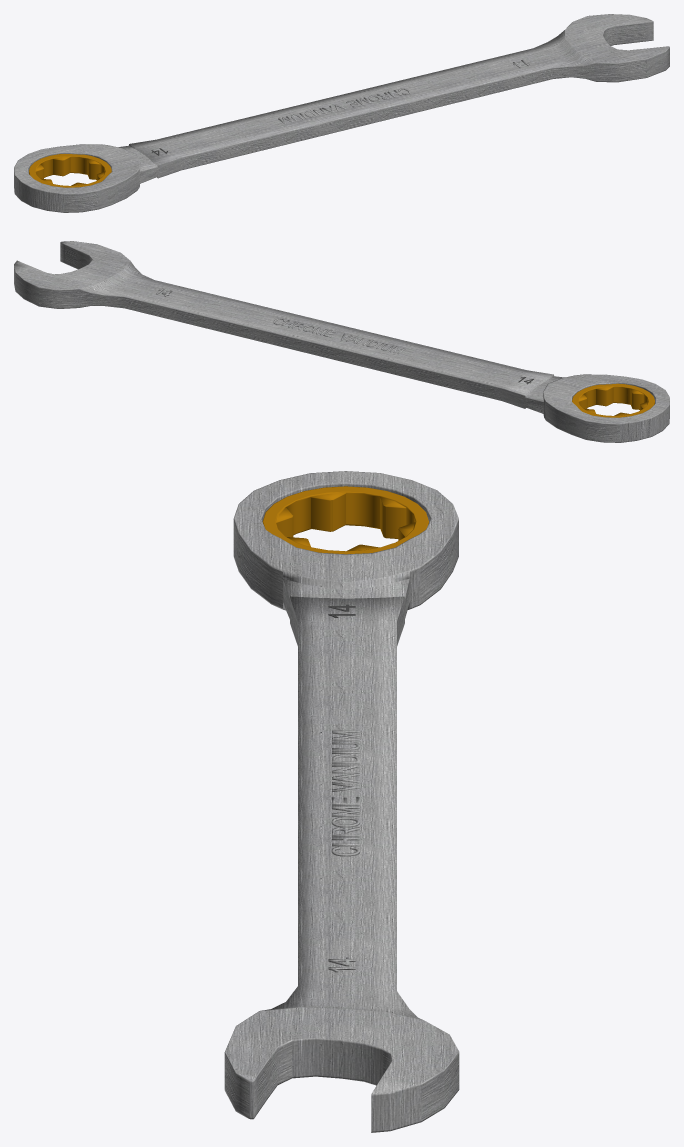
File: klu4.FBX
3 views of the same model, one above another, from view 1: azimuth 30°, elevation 25°; view 2: azimuth 150°, elevation 25°; view 3: azimuth 270°, elevation 25° (orthographic). The views are drawn at different scales.
Parts seen in each view (by area): view 1: Tube020, Tube017; view 2: Tube020, Tube017; view 3: Tube020, Tube017.
Boxes of the visible parts, x1,y1,x2,y2 form: Tube020: (14, 14, 669, 212); Tube017: (29, 154, 111, 187); Tube020: (14, 241, 669, 442); Tube017: (572, 383, 654, 417); Tube020: (224, 471, 459, 1132); Tube017: (262, 486, 428, 554).
Size of the model in its own units: 0.2371 by 0.00685 by 0.0377.
Materials: 3 (1 with a texture image).
